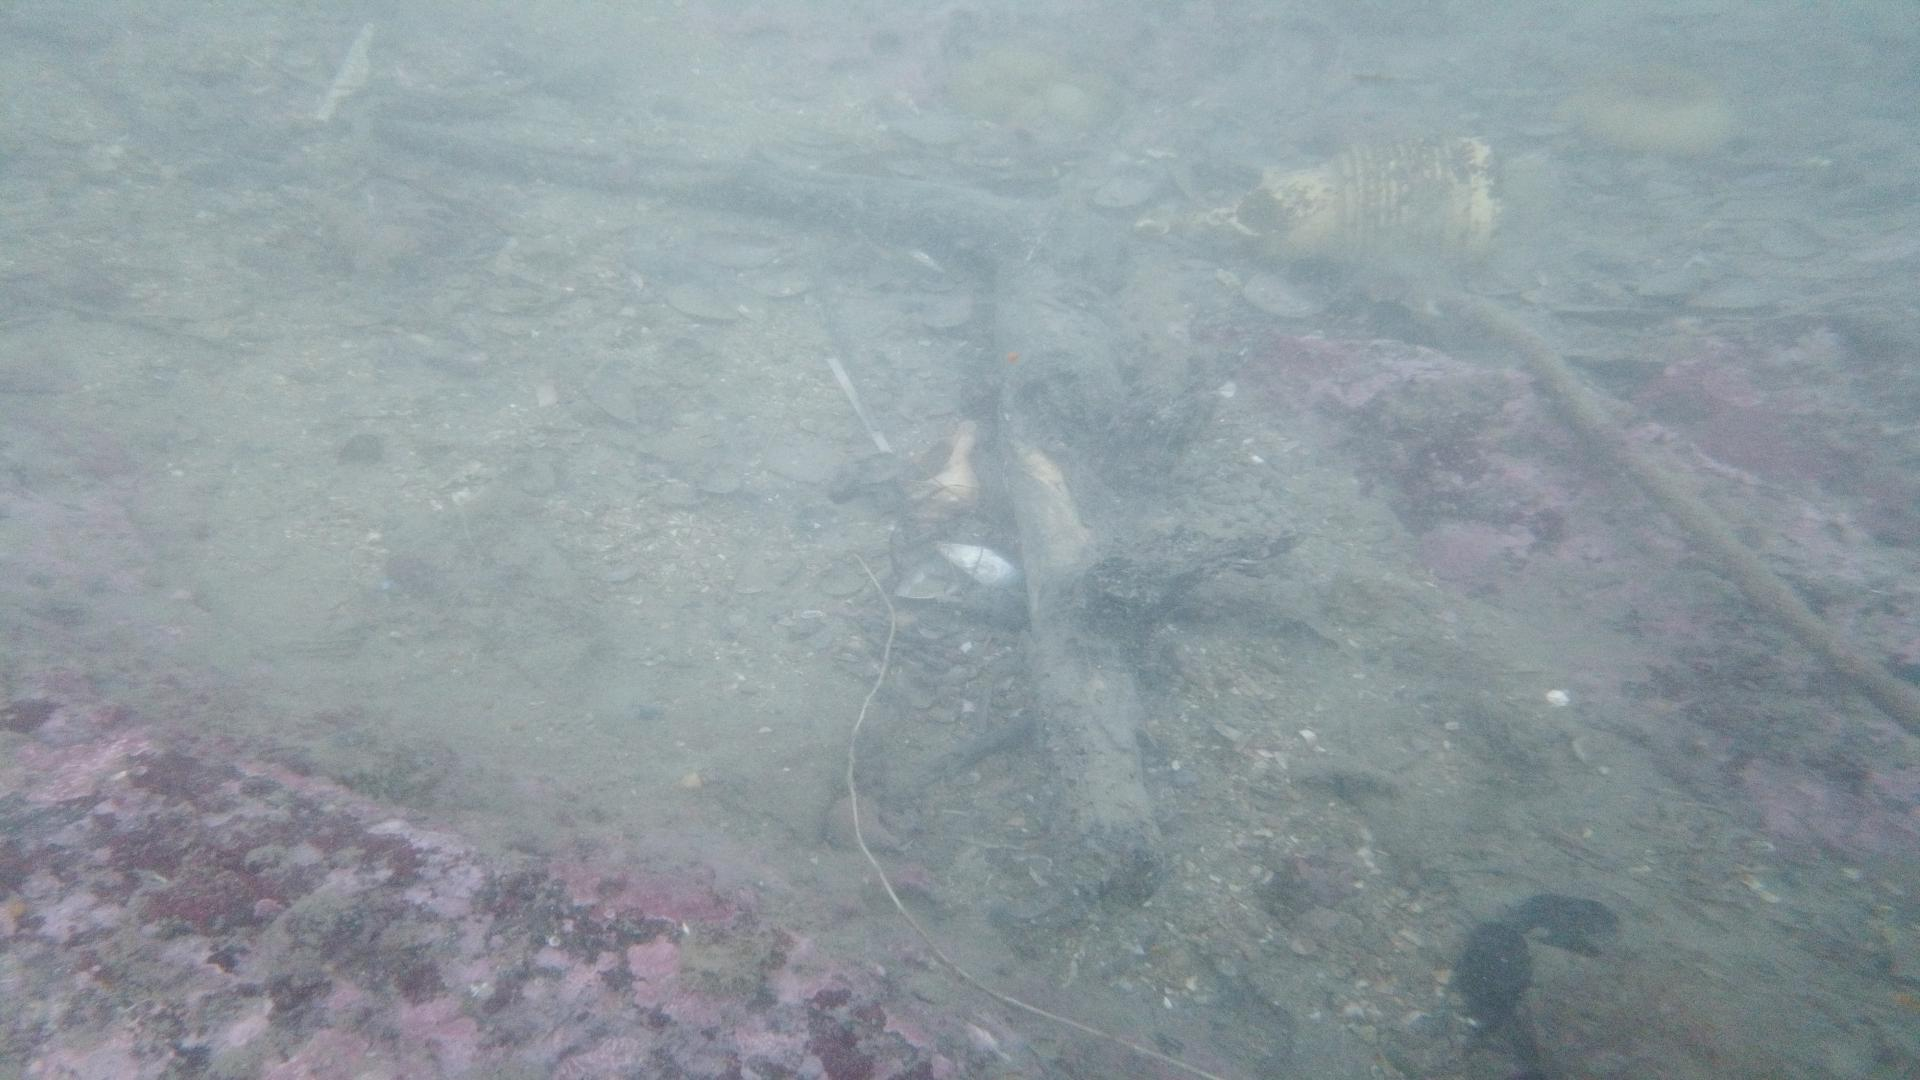rope: (1439, 289, 1920, 735)
wood: (375, 113, 1170, 909)
